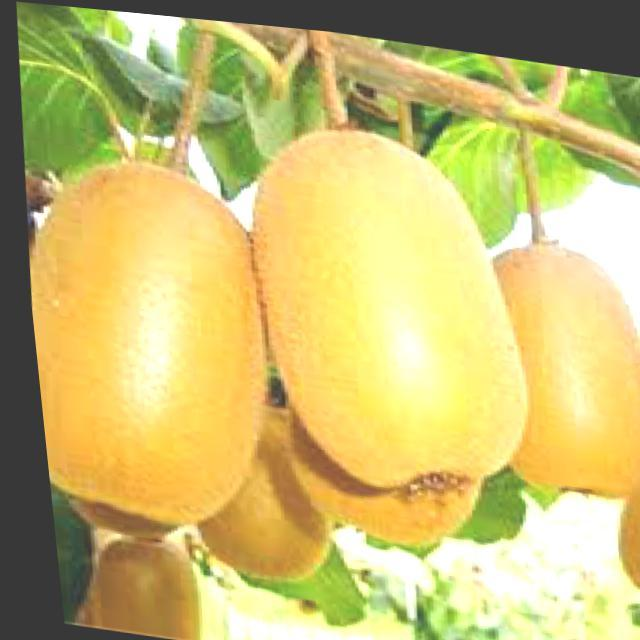kiwi: (230, 110, 536, 506), (13, 143, 278, 526), (458, 219, 640, 489), (168, 389, 326, 578), (586, 396, 640, 609)
